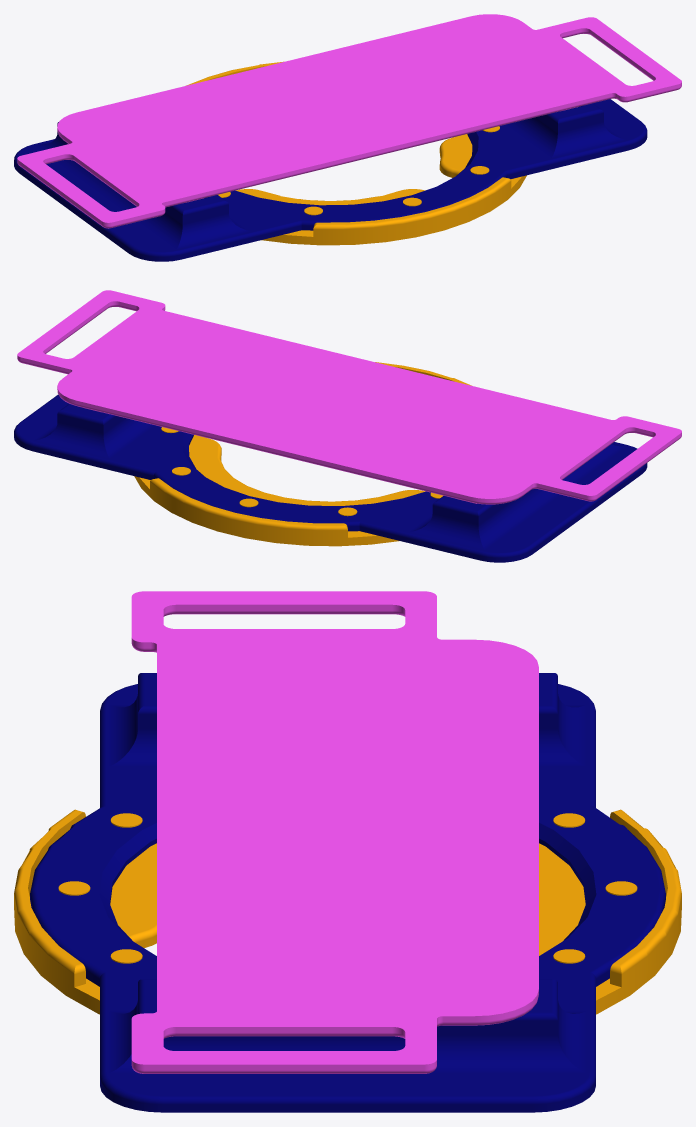
The model's file is StomaStrap_FullAssyConvaTec45mm.glb.
The picture shows the model from 3 angles, top to bottom: view 1: azimuth 30°, elevation 25°; view 2: azimuth 150°, elevation 25°; view 3: azimuth 270°, elevation 25°; orthographic projection. The views are drawn at different scales.
Visible parts, largest first — view 1: Body_Span_Wide, Body_Base, Body_Ring_FlatSides; view 2: Body_Span_Wide, Body_Base, Body_Ring_FlatSides; view 3: Body_Span_Wide, Body_Base, Body_Ring_FlatSides.
Part boxes in pixels (left/top/right/bottom): Body_Span_Wide: left=17, top=14, right=681, bottom=228; Body_Base: left=14, top=99, right=647, bottom=261; Body_Ring_FlatSides: left=186, top=61, right=526, bottom=245; Body_Span_Wide: left=17, top=290, right=681, bottom=504; Body_Base: left=14, top=394, right=647, bottom=562; Body_Ring_FlatSides: left=134, top=362, right=471, bottom=546; Body_Span_Wide: left=131, top=591, right=538, bottom=1073; Body_Base: left=30, top=673, right=665, bottom=1112; Body_Ring_FlatSides: left=14, top=809, right=681, bottom=1014.
Size of the model in its own units: 0.176 by 0.016 by 0.105.
